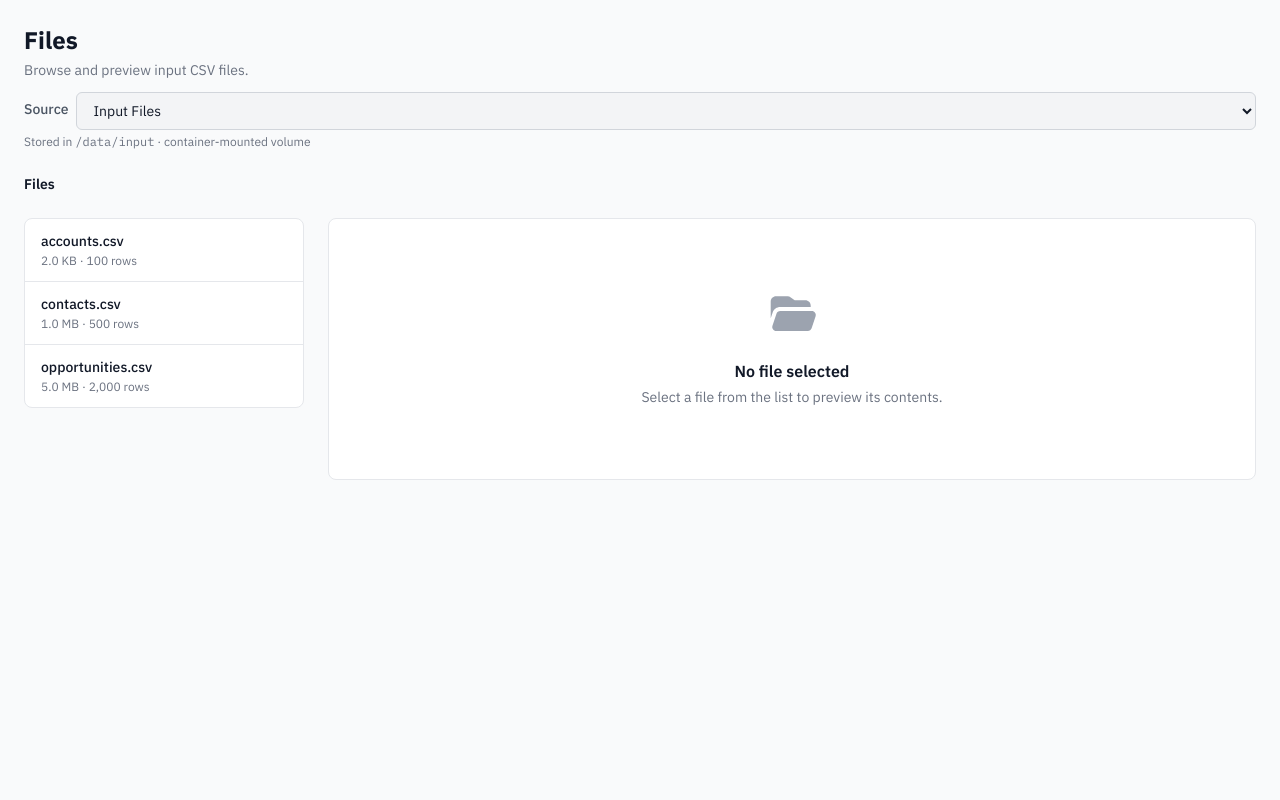
Test case: FilesPage › shows preview error message when preview fetch fails
Click the text "accounts.csv": x=82, y=241 x1=41 y1=232 x2=124 y2=250
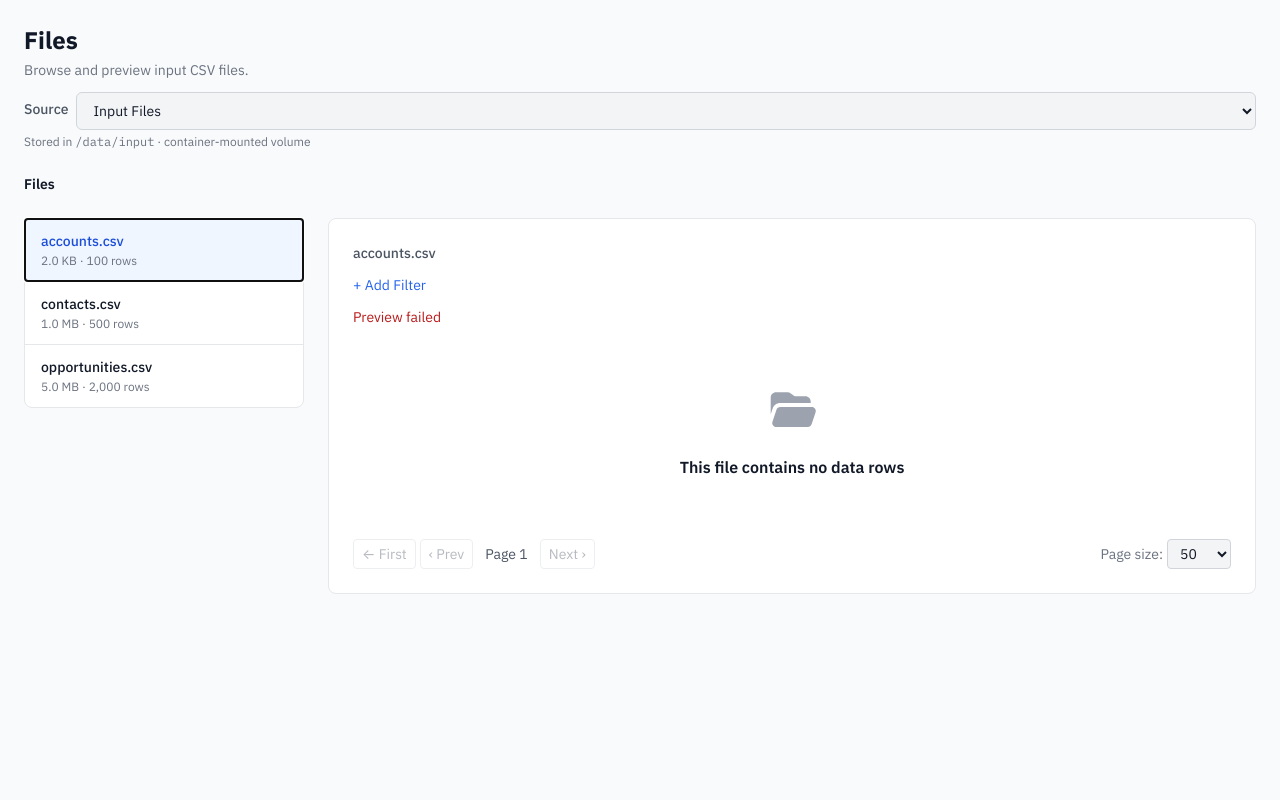
Check: the text "Preview failed" is shown, box x1=353 y1=308 x2=441 y2=326
